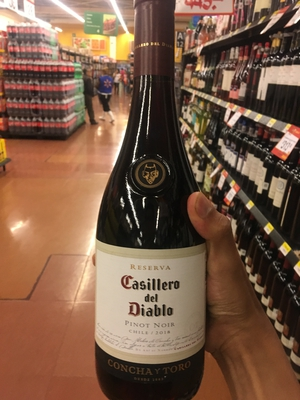casillero del diablo pinot noir: (81, 16, 229, 391)
